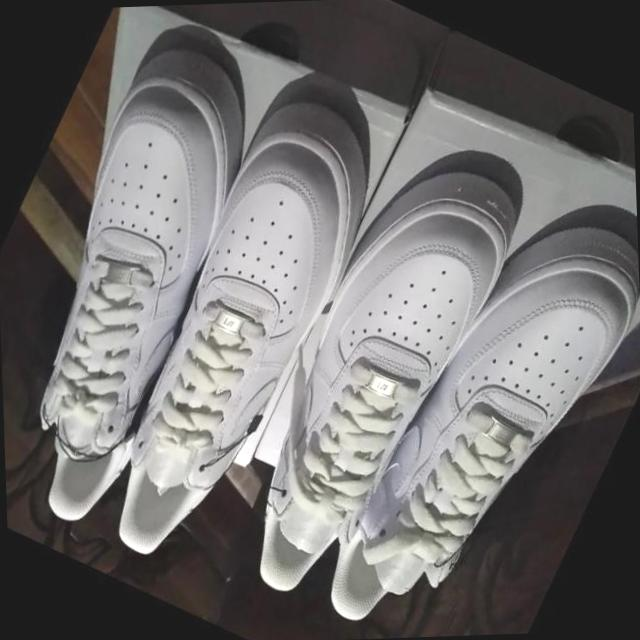nike_original_airforce: (188, 132, 556, 628), (56, 80, 416, 586), (0, 18, 315, 534), (299, 178, 640, 640)
